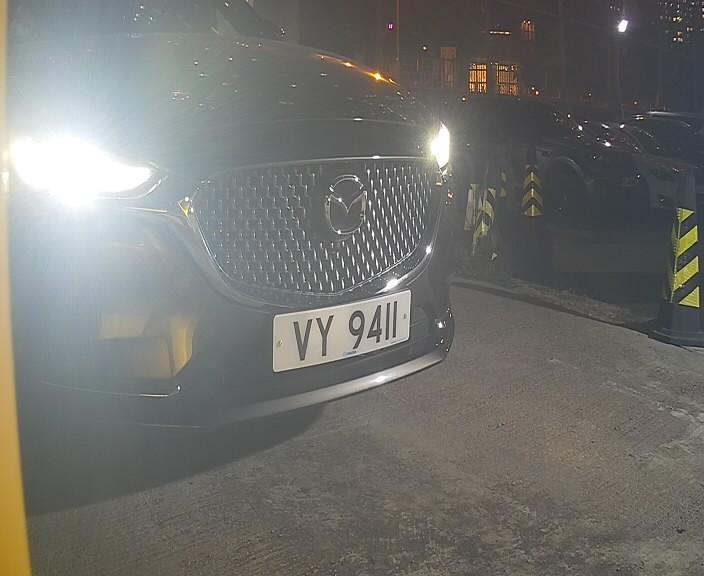License Plate: (261, 281, 415, 381)
